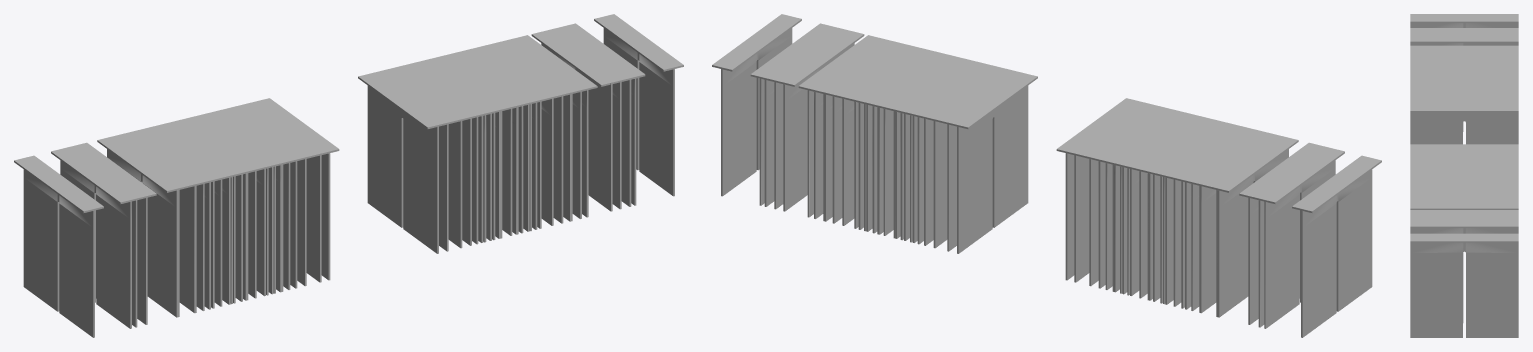
The model's file is Walrus.glb.
3 views of the same model, side by side, from view 1: azimuth 30°, elevation 25°; view 2: azimuth 150°, elevation 25°; view 3: azimuth 270°, elevation 25° (orthographic). The views are drawn at different scales.
Visible parts, largest first — view 1: Rectangle_Walrus_LEG, Oval_Walrus_LEG, Verbaan_Walrus_LEG, Halve_Walrus_LEG, Boat_Walrus_LEG; view 2: Rectangle_Walrus_LEG, Oval_Walrus_LEG, Verbaan_Walrus_LEG, Halve_Walrus_LEG, Boat_Walrus_LEG; view 3: Rectangle_Walrus_LEG, Oval_Walrus_LEG, Verbaan_Walrus_LEG, Halve_Walrus_LEG, Boat_Walrus_LEG.
Boxes of the visible parts, x1,y1,x2,y2 form: Rectangle_Walrus_LEG: (14, 14, 683, 337); Oval_Walrus_LEG: (221, 67, 532, 301); Verbaan_Walrus_LEG: (77, 30, 619, 324); Halve_Walrus_LEG: (51, 23, 645, 328); Boat_Walrus_LEG: (79, 33, 631, 327); Rectangle_Walrus_LEG: (712, 14, 1381, 337); Oval_Walrus_LEG: (872, 65, 1174, 301); Verbaan_Walrus_LEG: (776, 29, 1318, 324); Halve_Walrus_LEG: (750, 23, 1344, 328); Boat_Walrus_LEG: (764, 81, 1338, 326); Rectangle_Walrus_LEG: (1410, 14, 1518, 337); Oval_Walrus_LEG: (1410, 92, 1518, 162); Verbaan_Walrus_LEG: (1410, 34, 1518, 217); Halve_Walrus_LEG: (1410, 28, 1518, 322); Boat_Walrus_LEG: (1410, 30, 1518, 224).
Bounding box in the file's own units: 3.53 × 0.7237 × 0.7099.
5 materials, 5 textured.
